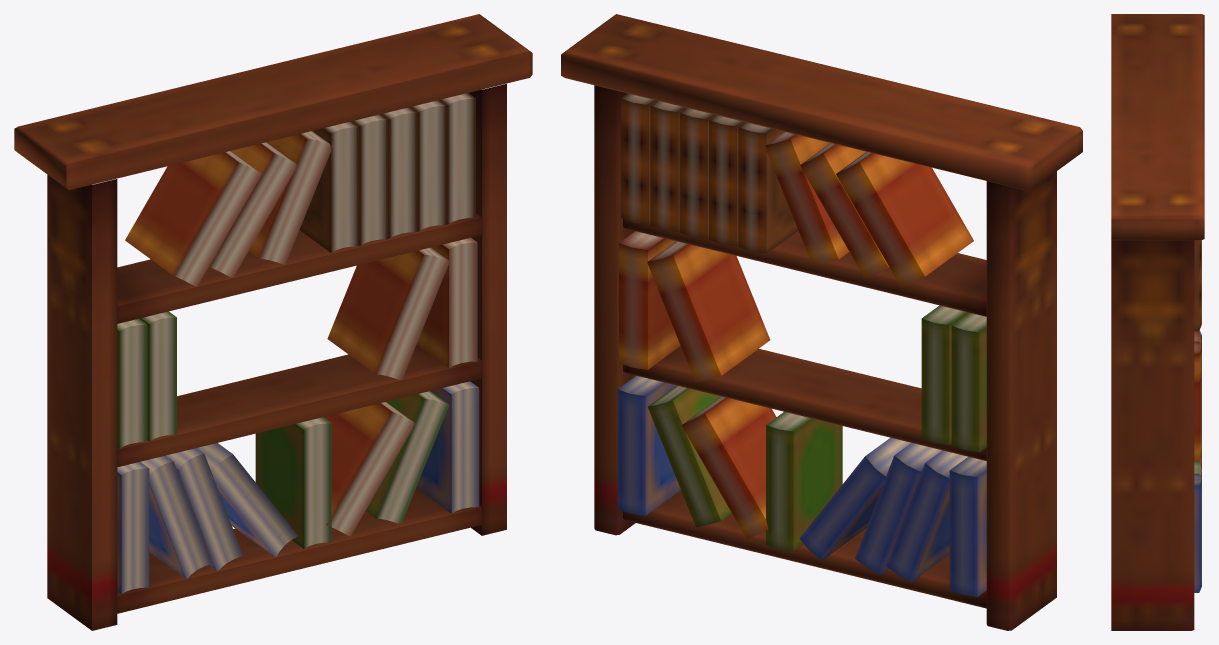
The model's file is Bookcase_005.gltf.
3 renders of one model, left to right at view 1: azimuth 30°, elevation 25°; view 2: azimuth 150°, elevation 25°; view 3: azimuth 270°, elevation 25°, orthographic. The views are drawn at different scales.
Parts seen in each view (by area): view 1: Bookcase_005; view 2: Bookcase_005; view 3: Bookcase_005.
Part boxes in pixels (left/top/right/bottom): Bookcase_005: left=14, top=14, right=532, bottom=630; Bookcase_005: left=561, top=14, right=1082, bottom=630; Bookcase_005: left=1111, top=14, right=1204, bottom=630.
Size of the model in its own units: 61.54 by 59.65 by 11.91.
1 material, 1 textured.
